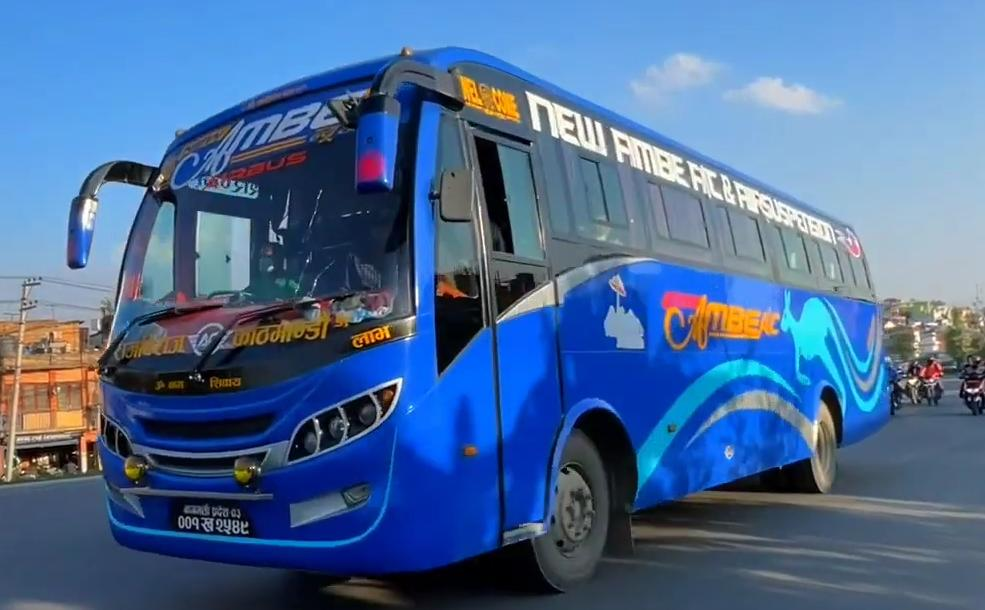bus: (69, 41, 903, 610)
